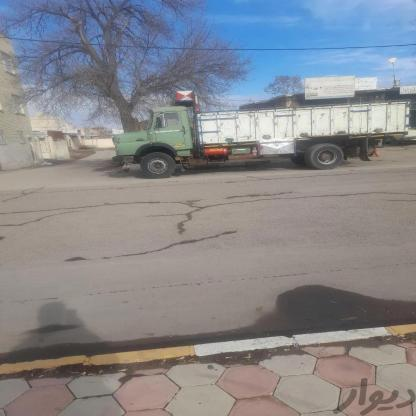Truck: (89, 107, 416, 171)
